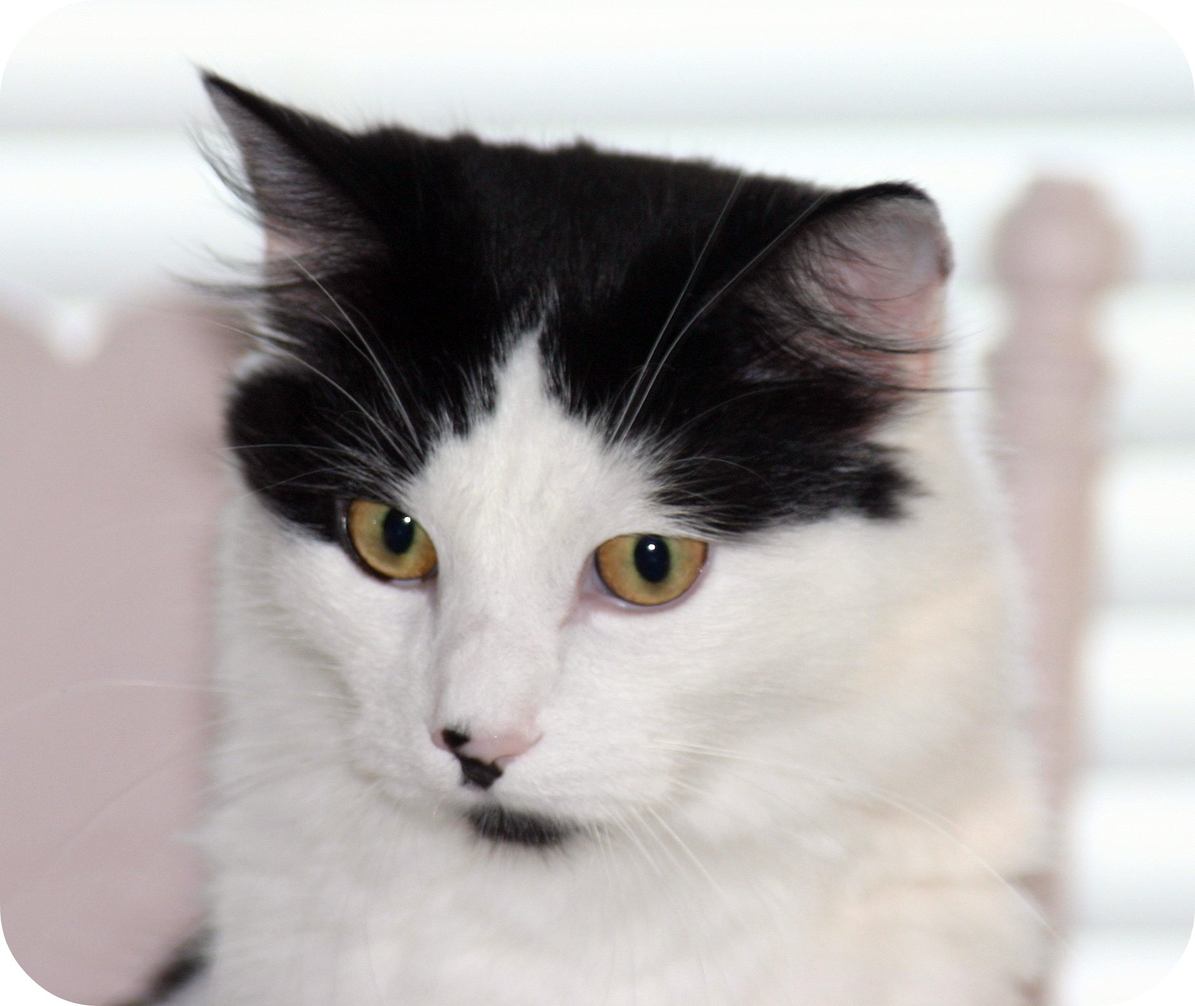cat: (113, 55, 1064, 1006)
